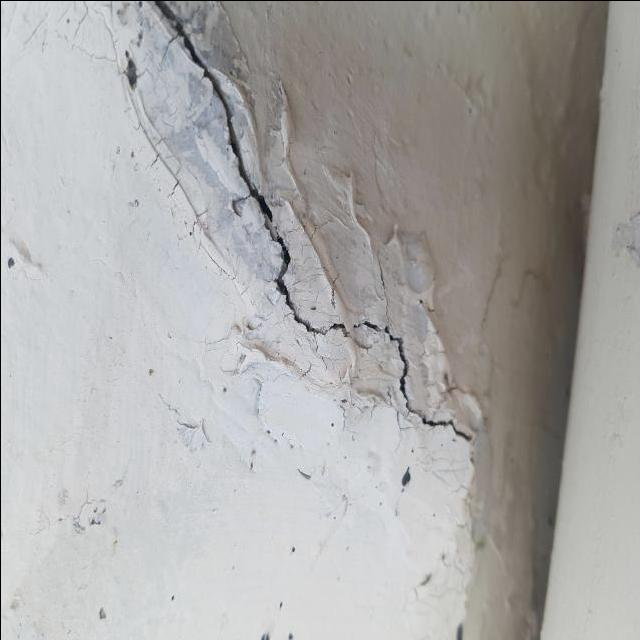SurfaceCrack: (94, 2, 489, 467)
